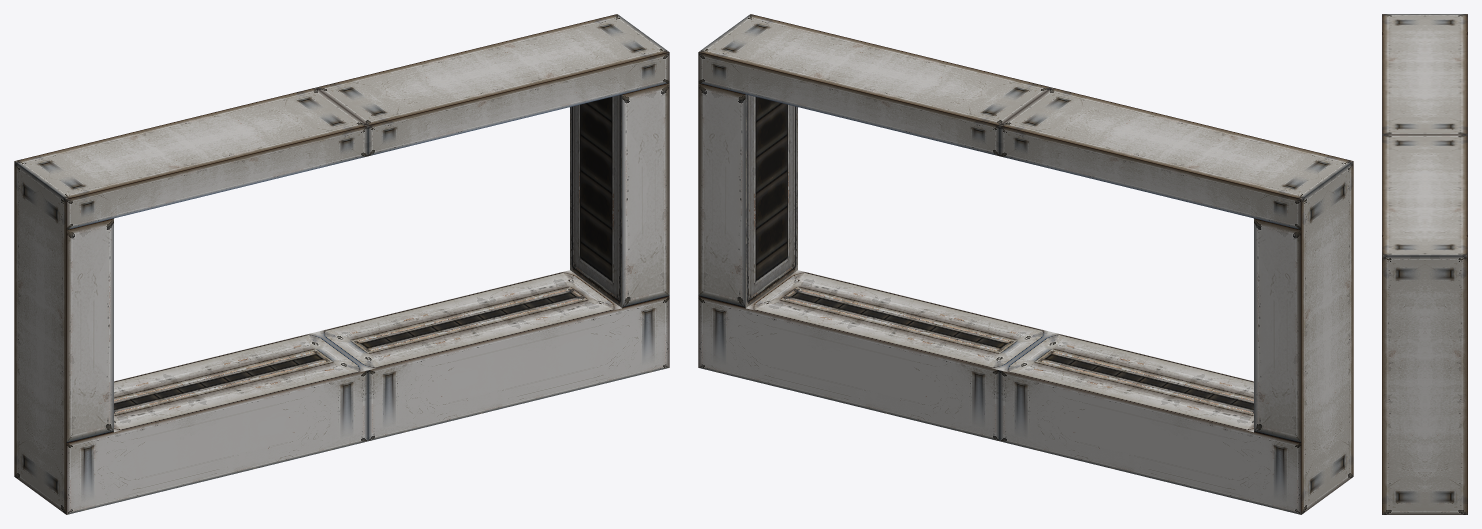
File: scifi_window_big.FBX
The picture shows the model from 3 angles, left to right: view 1: azimuth 30°, elevation 25°; view 2: azimuth 150°, elevation 25°; view 3: azimuth 270°, elevation 25°; orthographic projection. The views are drawn at different scales.
Visible parts, largest first — view 1: Plane157; view 2: Plane157; view 3: Plane157.
Part boxes in pixels (x1,y1,x2,y2): Plane157: (14,14,669,514); Plane157: (698,14,1353,514); Plane157: (1382,14,1467,514).
Size of the model in its own units: 508 by 254 by 76.2.
